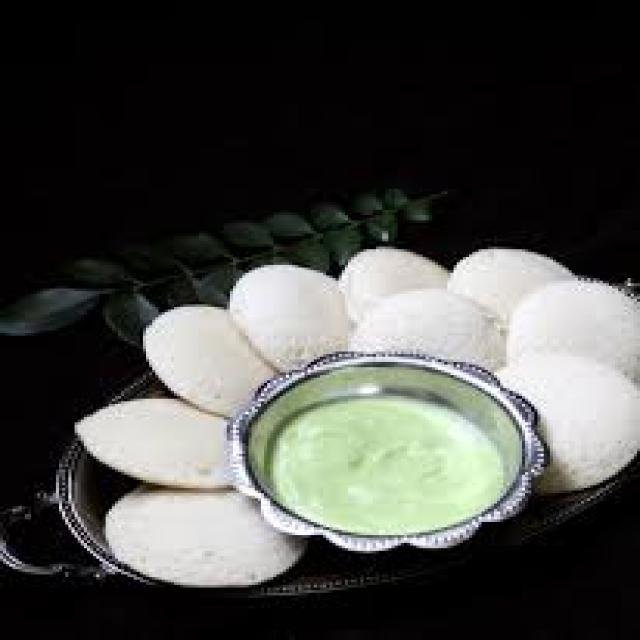IDLI: (103, 484, 307, 587), (506, 350, 637, 492), (509, 272, 637, 393), (142, 301, 272, 420), (77, 401, 227, 491), (356, 291, 507, 376), (233, 266, 354, 369), (447, 249, 573, 331), (343, 249, 445, 322)
